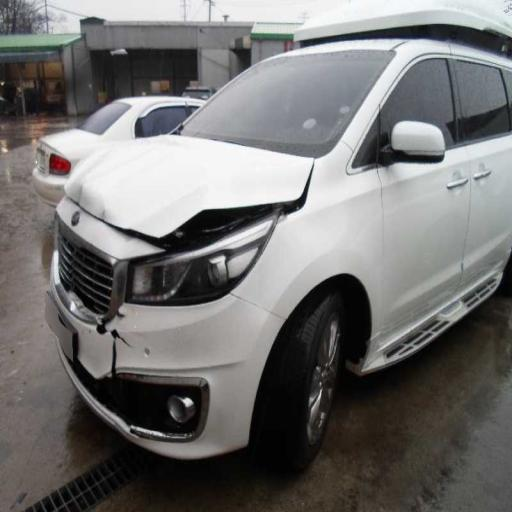broken: (94, 283, 158, 383)
dent: (99, 151, 235, 251)
